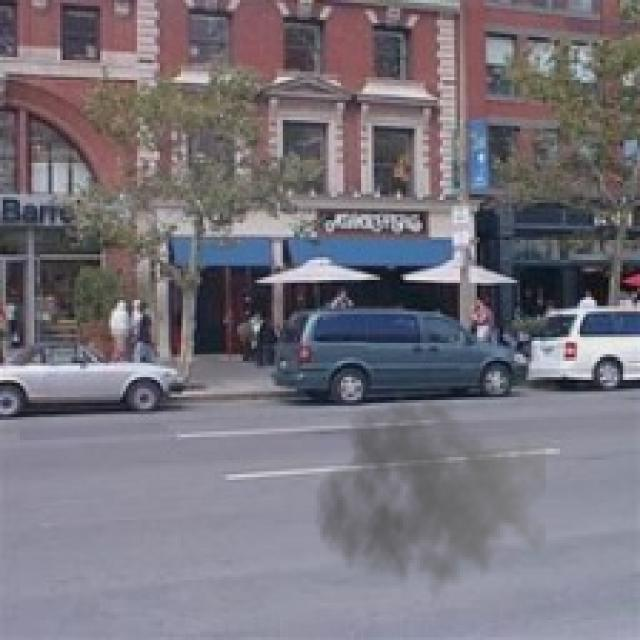Smoke: (314, 388, 546, 612)
